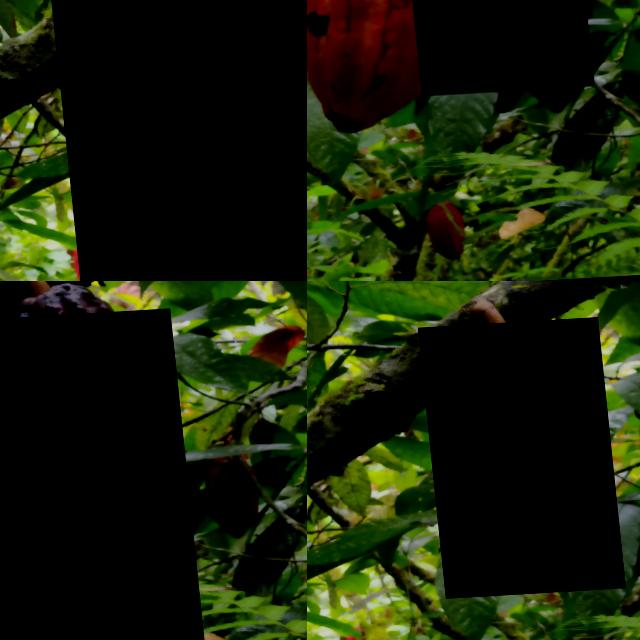Fitoftora: (413, 322, 615, 602), (389, 0, 584, 100)
Monilia: (33, 0, 307, 281), (0, 313, 192, 640)
Sana: (331, 624, 364, 640)
